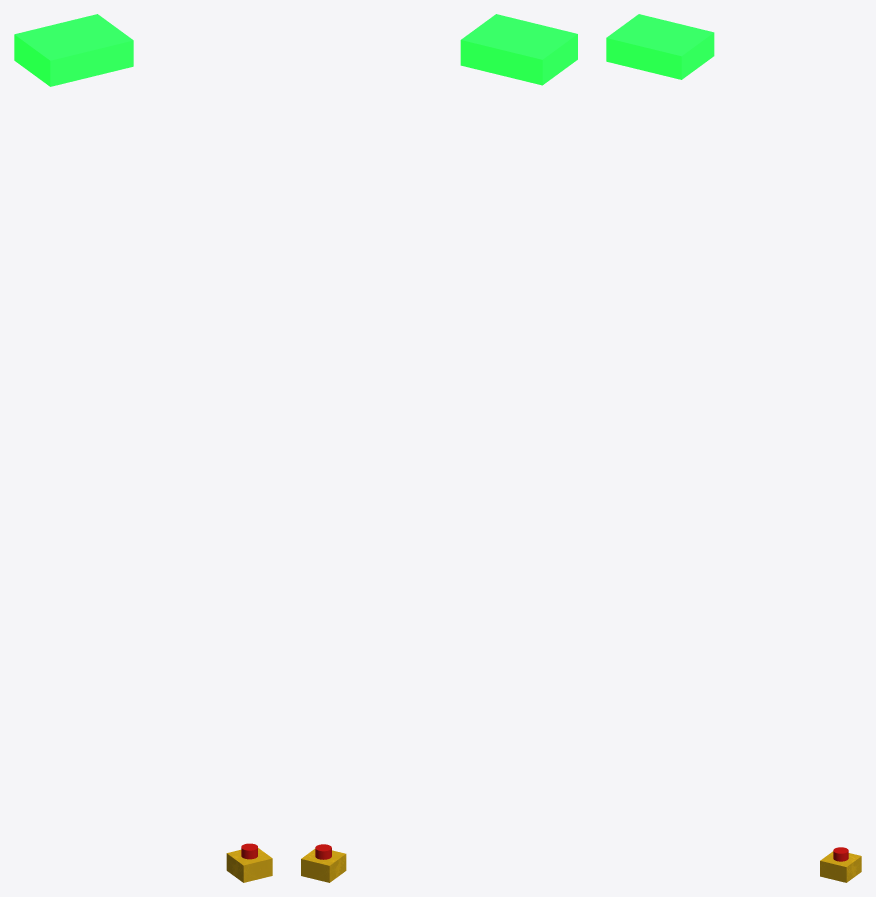
The model's file is safety.glb.
The picture shows the model from 3 angles, left to right: view 1: azimuth 30°, elevation 25°; view 2: azimuth 150°, elevation 25°; view 3: azimuth 330°, elevation 25°; orthographic projection. The views are drawn at different scales.
Visible parts, largest first — view 1: safety; view 2: safety; view 3: safety.
Part boxes in pixels (x1=…): safety: x1=14, y1=14, x2=272, y2=882; safety: x1=301, y1=14, x2=577, y2=882; safety: x1=606, y1=14, x2=861, y2=882.
Bounding box in the file's own units: 1.17 × 4.08 × 0.32.
Materials: 4 (1 with a texture image).
